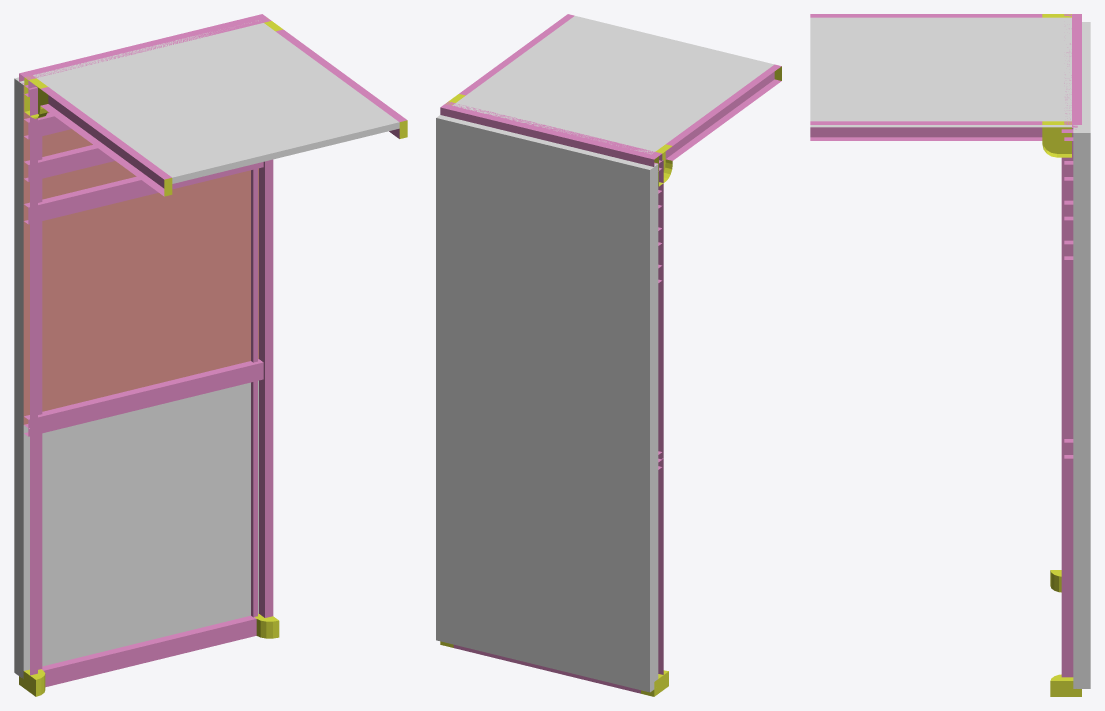
Rendered from Wall Segment.fbx.
3 renders of one model, left to right at view 1: azimuth 30°, elevation 25°; view 2: azimuth 150°, elevation 25°; view 3: azimuth 270°, elevation 25°, orthographic. The views are drawn at different scales.
Visible parts, largest first — view 1: Cube.006; view 2: Cube.006; view 3: Cube.006.
Part boxes in pixels (left/top/right/bottom): Cube.006: left=14, top=14, right=407, bottom=696; Cube.006: left=436, top=14, right=781, bottom=696; Cube.006: left=810, top=14, right=1090, bottom=696.
Size of the model in its own units: 3 by 7.2 by 3.2.
